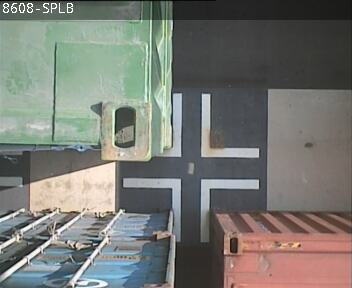groundmarker_1: (122, 178, 261, 239), (161, 96, 259, 157)
